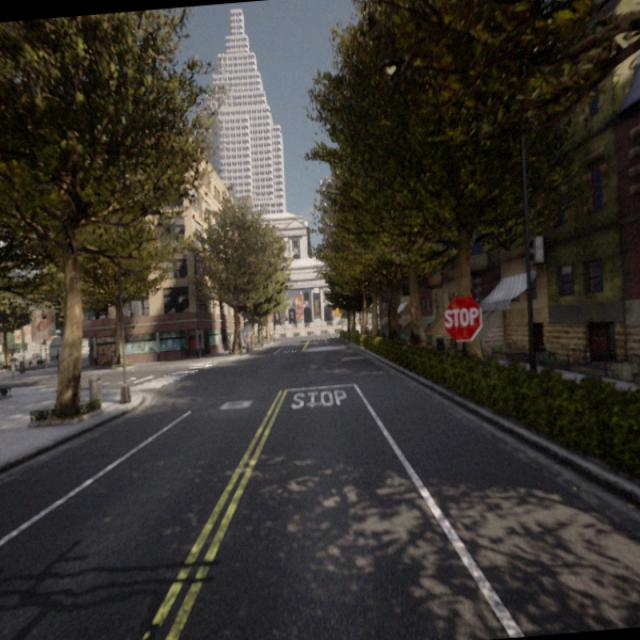stop sign: (441, 292, 484, 345), (444, 305, 479, 329)
